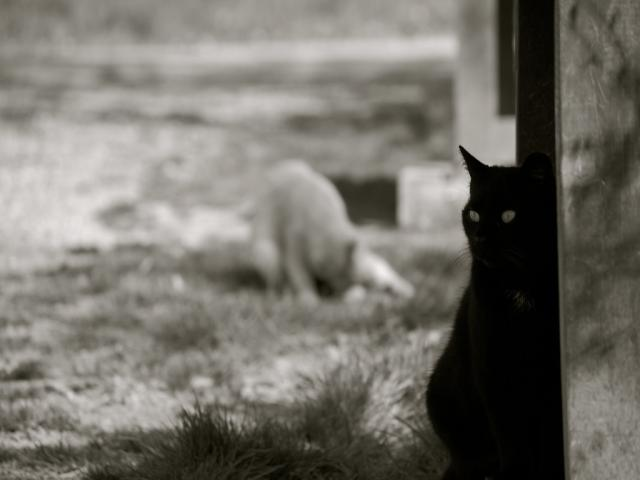Cat: (427, 144, 559, 480)
